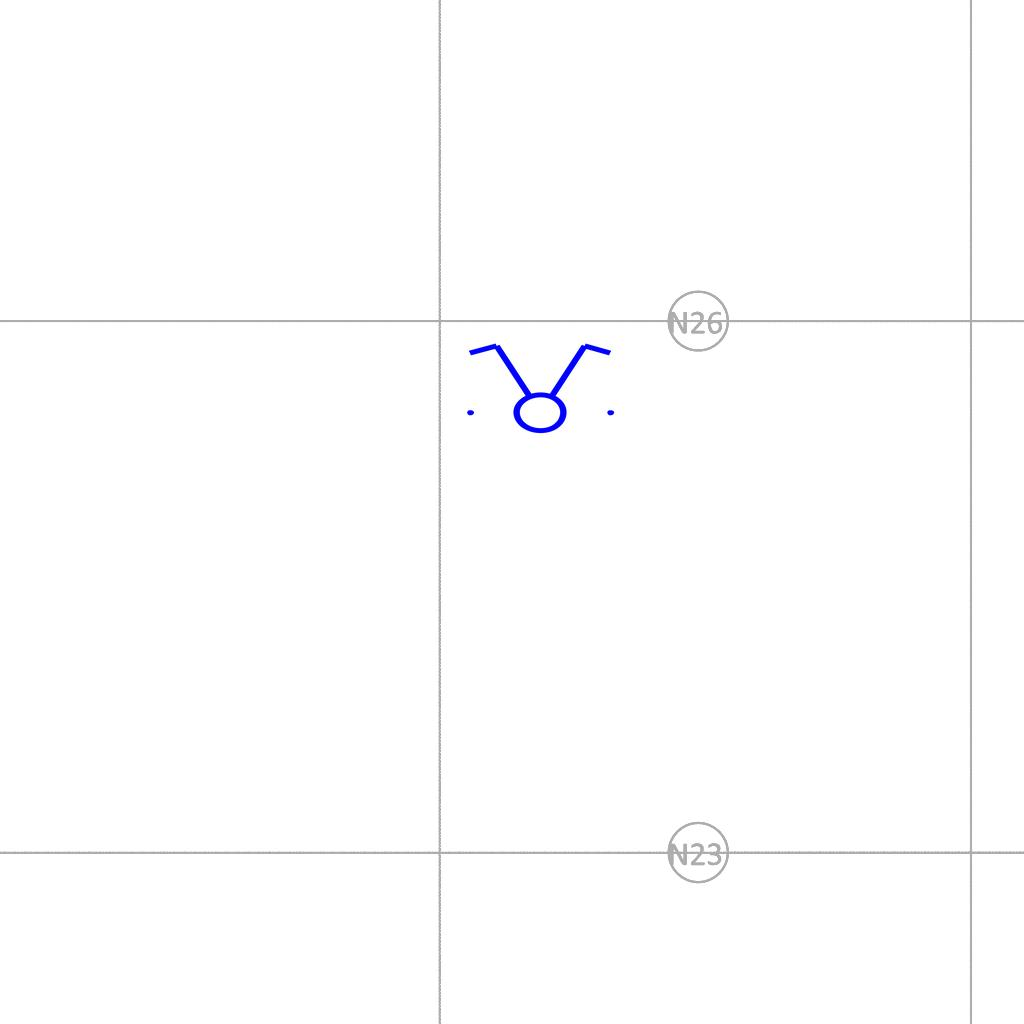Serienschalter: (455, 339, 623, 435)
